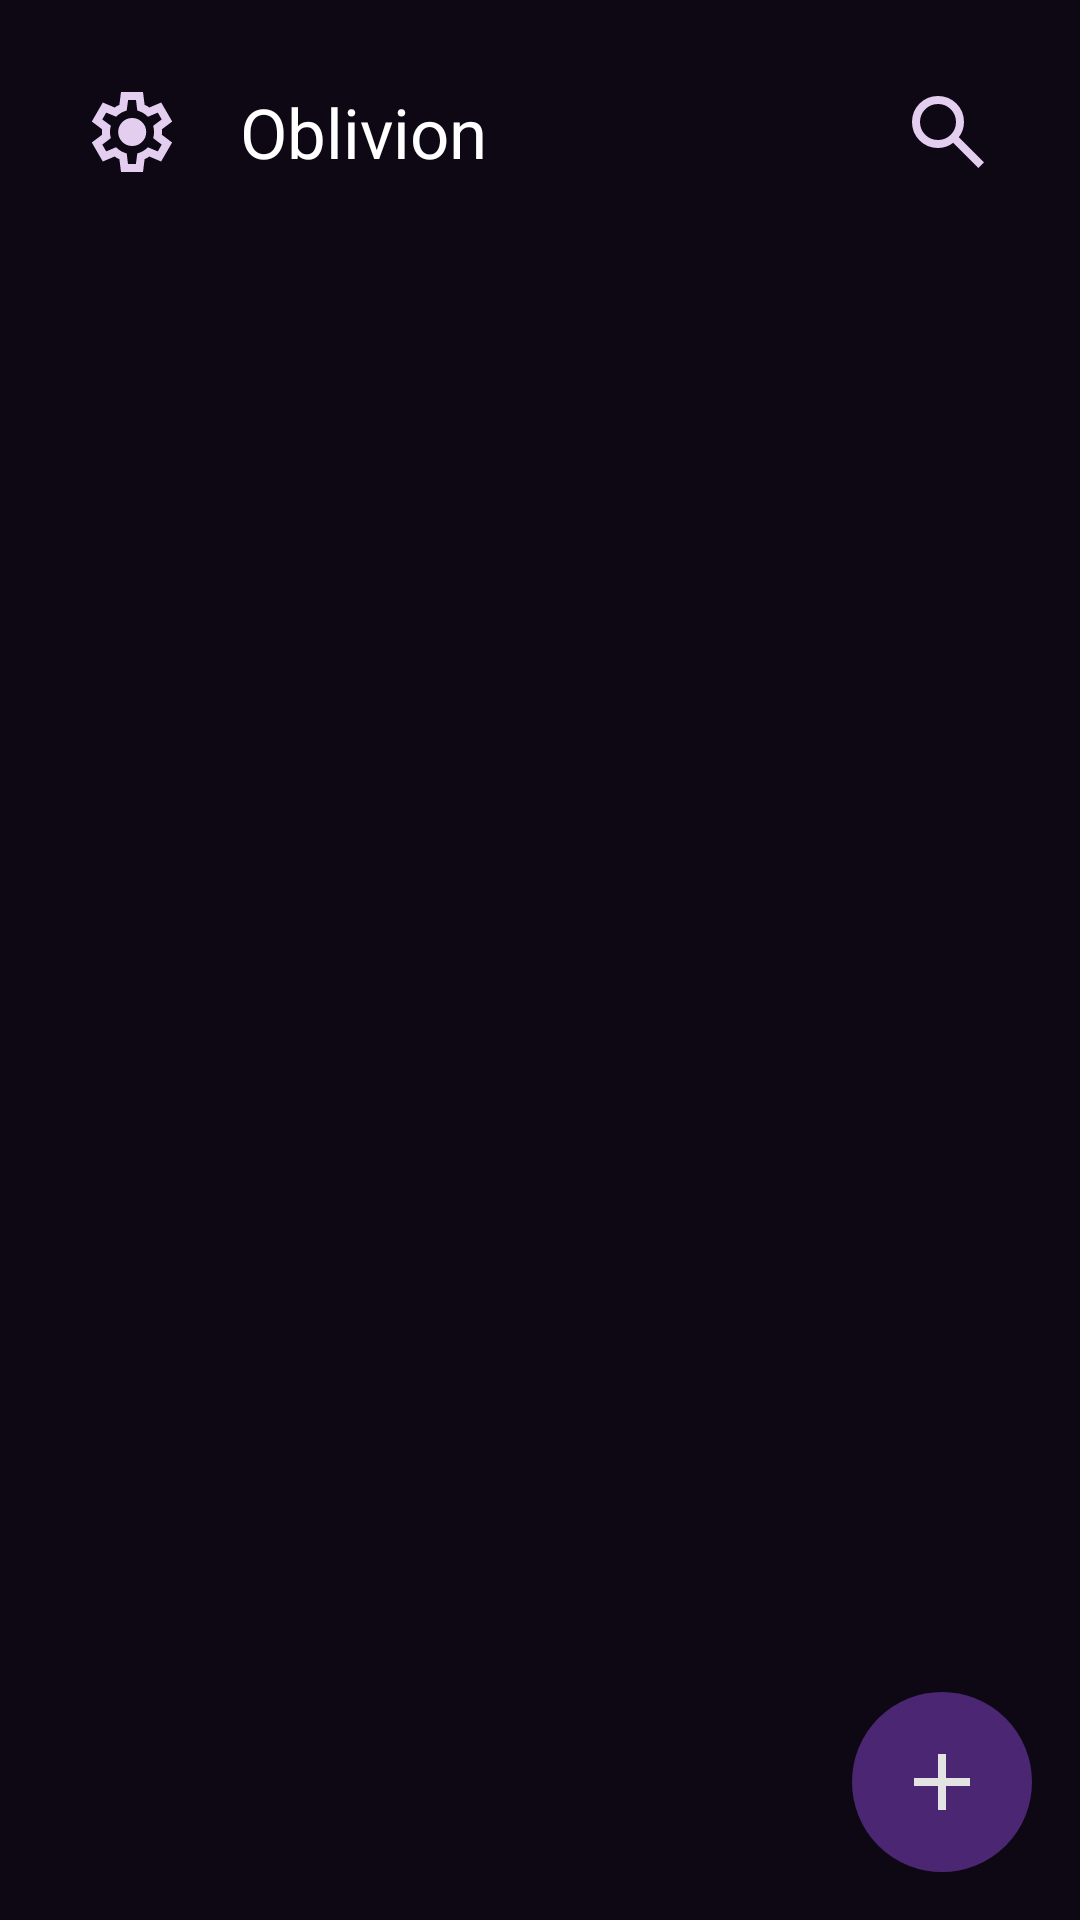

Locate icon controls on the screen. Image size 1080x1920, boxes as bbox(x1, y1, x2, y2).
add a chat: bbox(852, 1692, 1032, 1872)
search: bbox(912, 96, 984, 168)
settings: bbox(92, 92, 172, 172)
